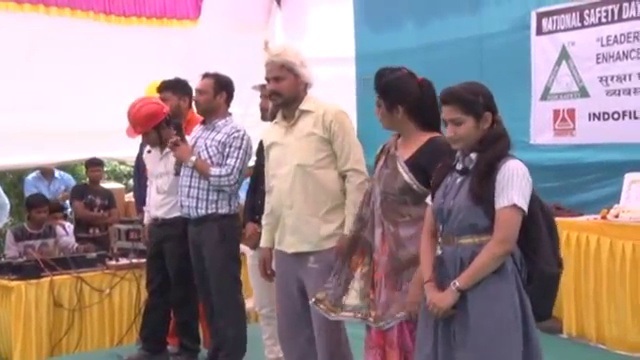helmet: (122, 98, 168, 139), (249, 71, 267, 92)
helmet_off: (373, 61, 440, 148), (434, 81, 502, 162), (254, 50, 315, 112), (189, 71, 238, 124), (149, 80, 194, 126), (24, 193, 54, 228), (80, 158, 102, 190)
helmet_on: (122, 95, 176, 152), (248, 71, 278, 123)
person: (412, 72, 564, 359), (255, 45, 373, 360), (362, 64, 454, 360), (165, 67, 252, 359), (121, 98, 203, 359), (244, 73, 288, 360), (3, 191, 89, 262), (70, 158, 122, 255), (24, 165, 77, 208)
